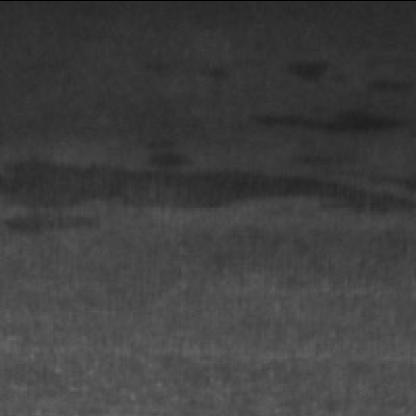inclusion: (0, 152, 410, 252), (238, 96, 402, 148), (279, 56, 339, 90)
